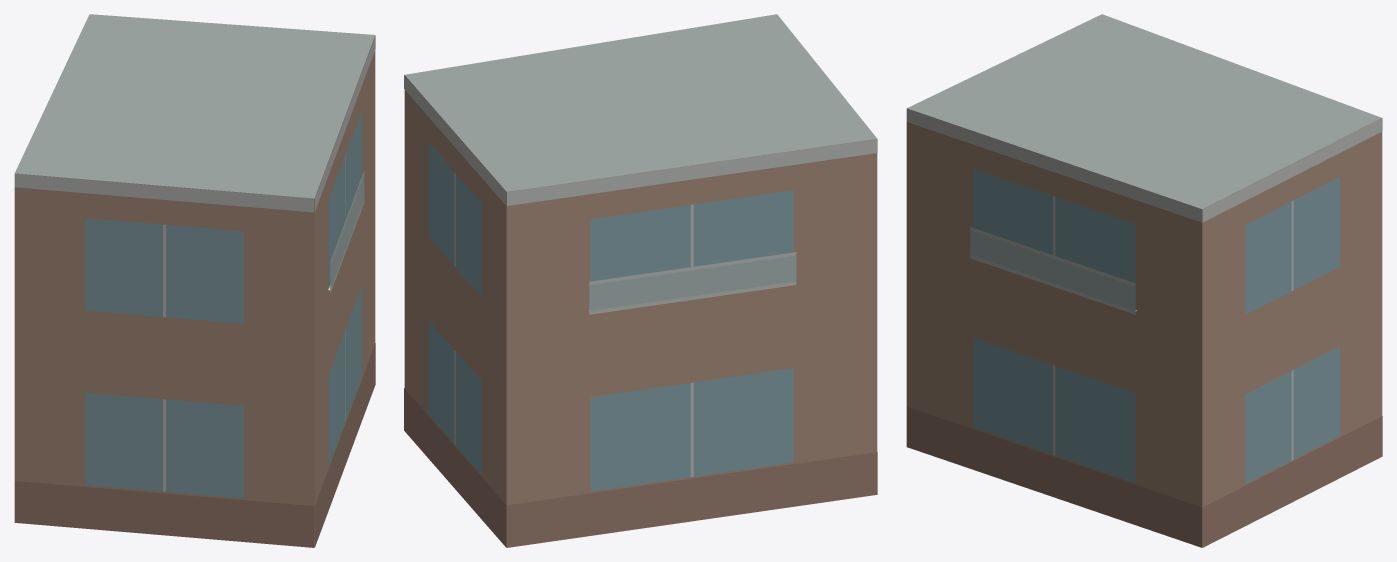
File: survey-upis-32906269.glb
The picture shows the model from 3 angles, left to right: view 1: azimuth 30°, elevation 25°; view 2: azimuth 150°, elevation 25°; view 3: azimuth 270°, elevation 25°; orthographic projection. The views are drawn at different scales.
Parts seen in each view (by area): view 1: survey-upis-32906269.tmp; view 2: survey-upis-32906269.tmp; view 3: survey-upis-32906269.tmp.
Part boxes in pixels (x1,y1,x2,y2): survey-upis-32906269.tmp: (14,14,375,547); survey-upis-32906269.tmp: (404,14,877,547); survey-upis-32906269.tmp: (906,14,1382,547).
Bounding box in the file's own units: 7.55 × 6.1 × 7.77.
